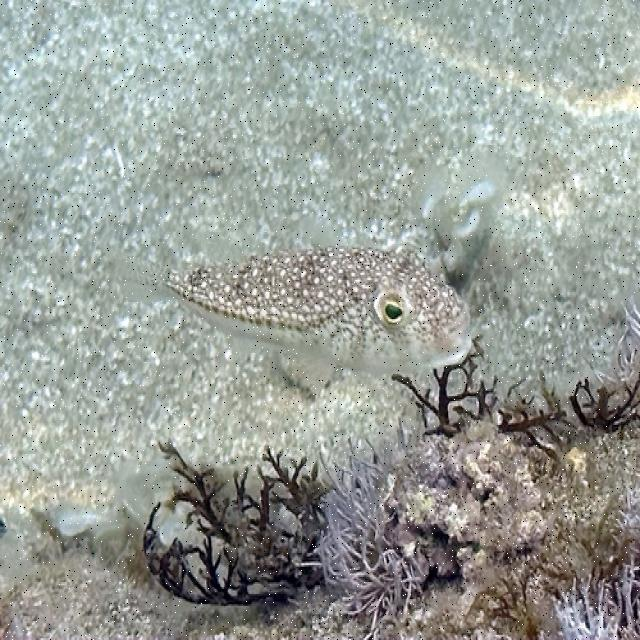Balik: (154, 248, 471, 372)
